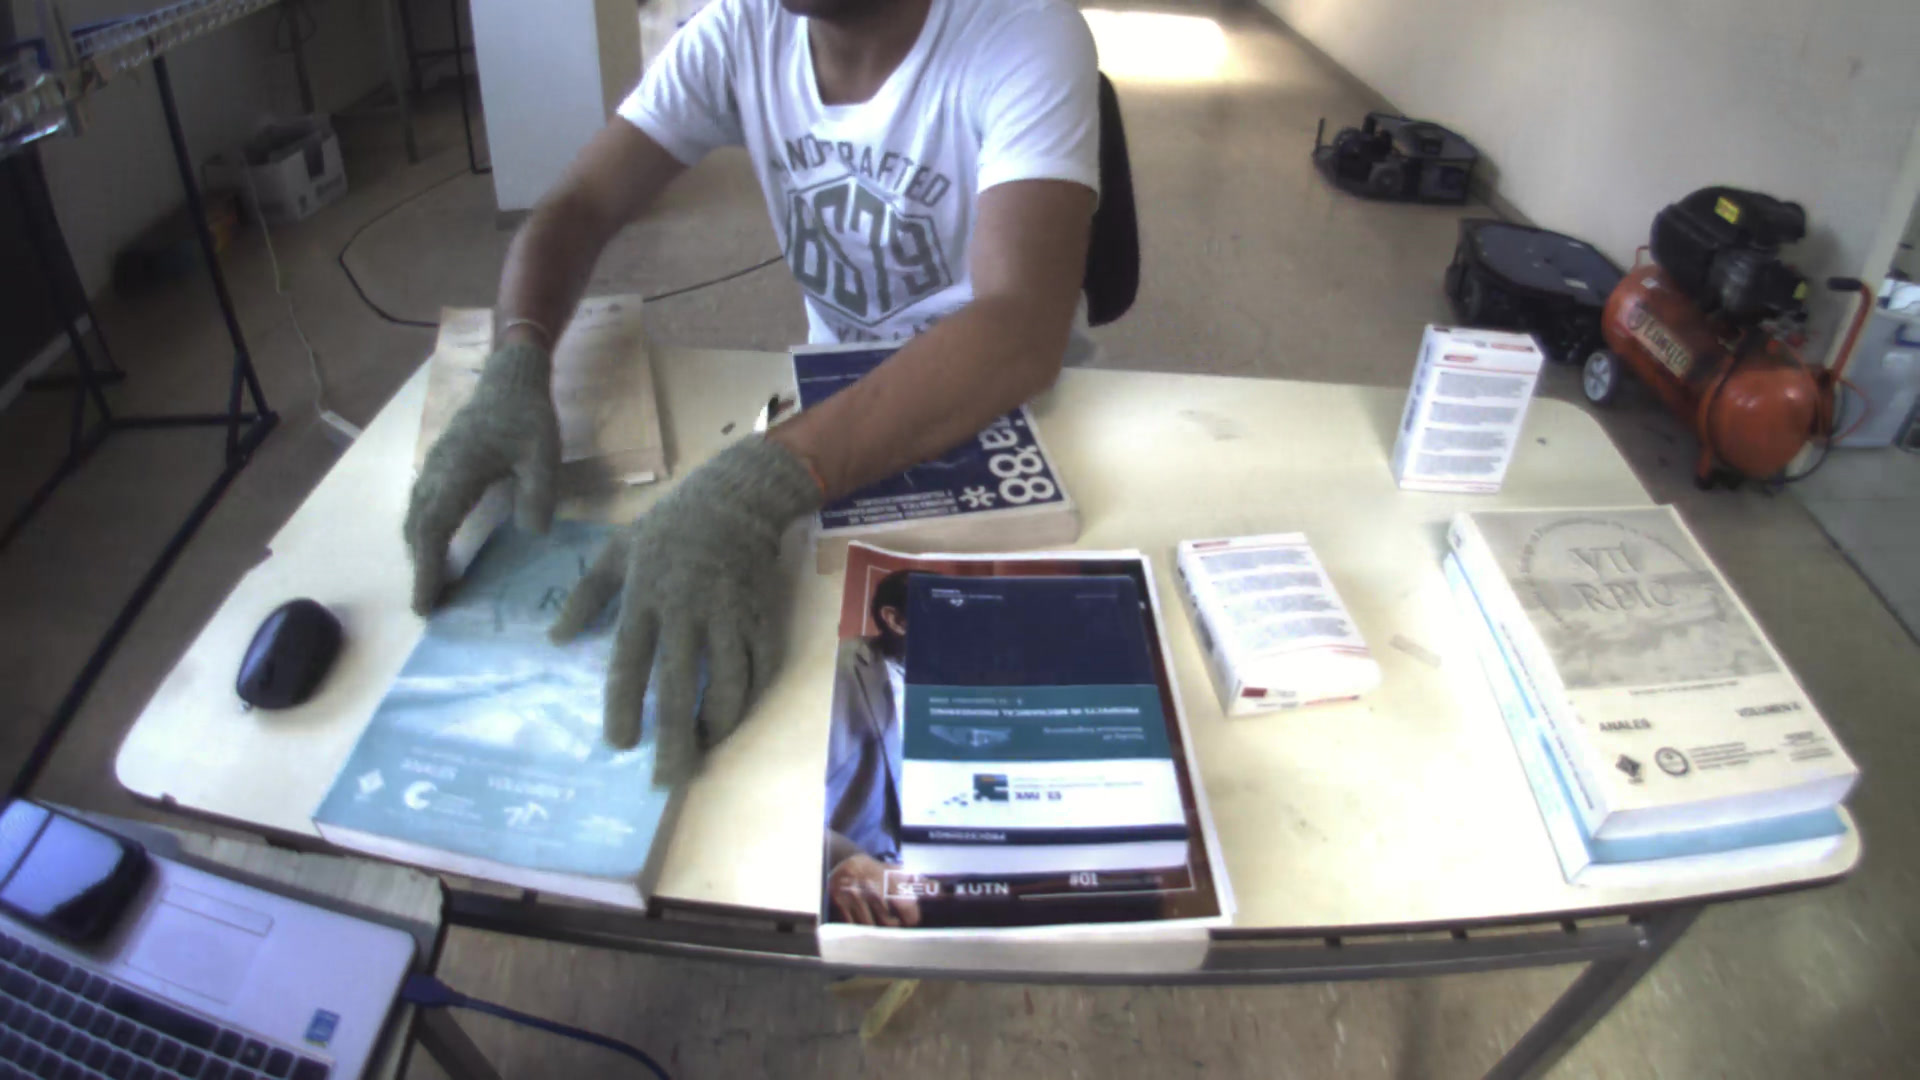hand: (529, 419, 831, 778), (396, 320, 563, 611)
